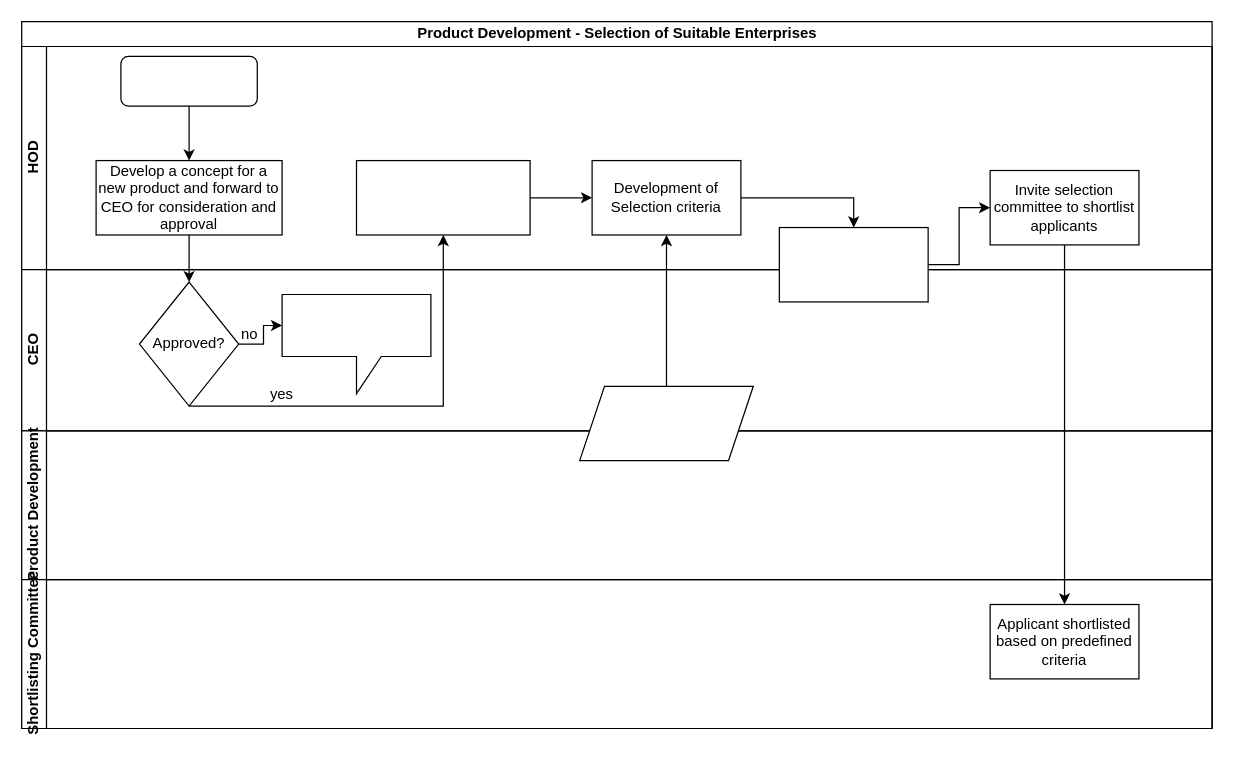
Image size: 1234x758. Some labels were removed from this diagram. Each missing label, with the centre of its shape:
Appointment of selection Committee: point (853, 264)
CEO and Product Development Input: point (665, 423)
Invite companies and individuals to apply and receive applications: point (442, 197)
Notify HOD: point (356, 343)
Start: point (188, 80)
